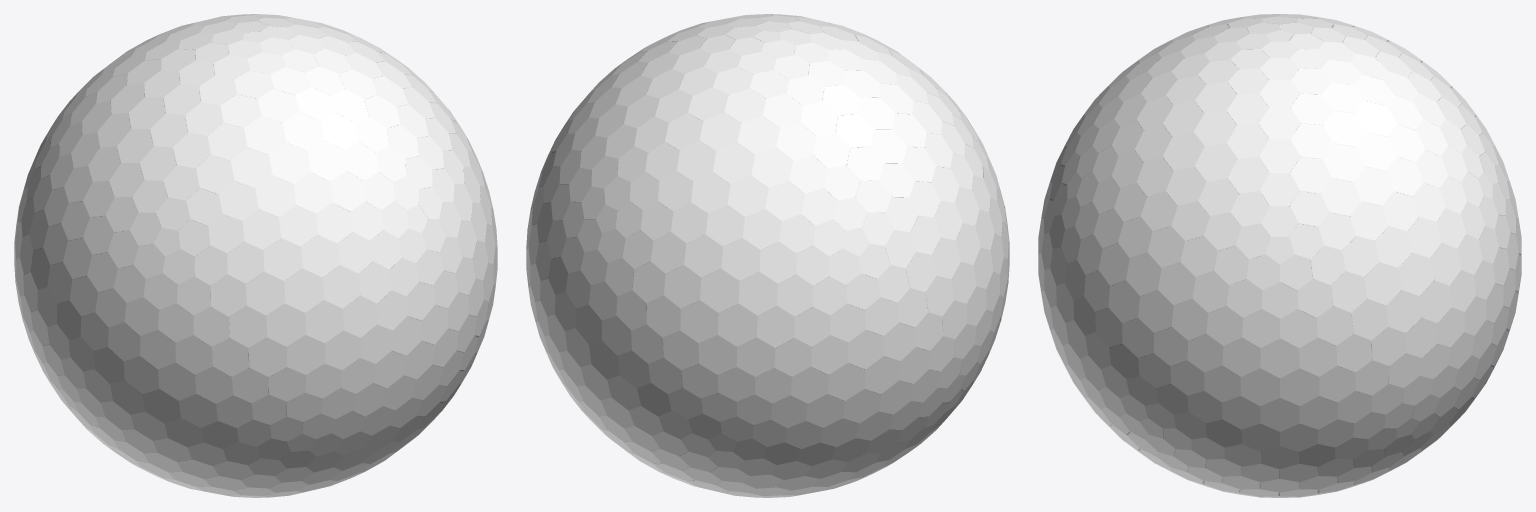
Rendered from shield.glb.
3 renders of one model, left to right at view 1: azimuth 30°, elevation 25°; view 2: azimuth 150°, elevation 25°; view 3: azimuth 270°, elevation 25°, orthographic.
Visible parts, largest first — view 1: shield; view 2: shield; view 3: shield.
Part boxes in pixels (x1,y1,x2,y2): shield: (14,14,497,497); shield: (526,14,1009,497); shield: (1038,14,1521,497).
Size of the model in its own units: 1.98 by 1.99 by 1.98.
1 material, 1 textured.
